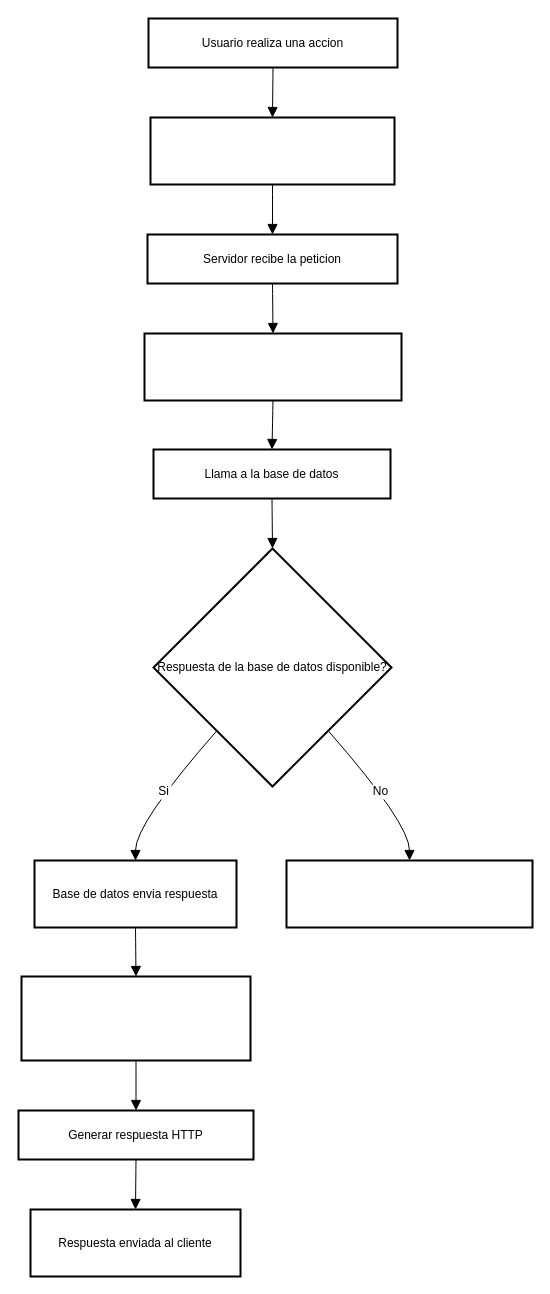
Image size: 550x1294. Some labels were removed from this diagram. The centre of each missing label's shape, as x and y in pixels:
"Envio de Peticion HTTP al Servidor" goes at point 272,150.
"Esperar la respuesta de la base de datos" goes at point 409,893.
"Servidor procesa la respuesta de la base de datos" goes at point 135,1018.
"Servidor valida y procesa la peticion" goes at point 272,366.
